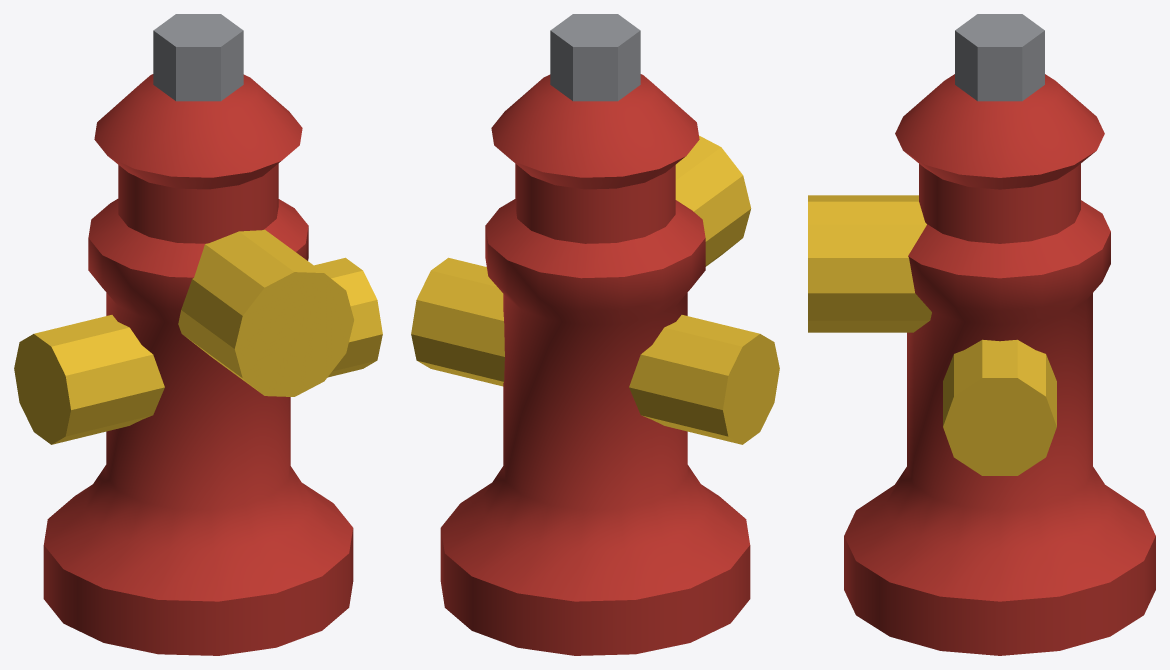
The model's file is city_hydrant.fbx.
The picture shows the model from 3 angles, left to right: view 1: azimuth 30°, elevation 25°; view 2: azimuth 150°, elevation 25°; view 3: azimuth 270°, elevation 25°; orthographic projection.
Parts seen in each view (by area): view 1: red_1, yellow_1, steel_1; view 2: red_1, yellow_1, steel_1; view 3: red_1, yellow_1, steel_1.
Boxes of the visible parts, left/top/right/bottom form: red_1: left=43, top=74, right=353, bottom=655; yellow_1: left=14, top=229, right=382, bottom=444; steel_1: left=153, top=14, right=243, bottom=101; red_1: left=440, top=74, right=750, bottom=655; yellow_1: left=411, top=135, right=779, bottom=444; steel_1: left=550, top=14, right=640, bottom=101; red_1: left=844, top=74, right=1155, bottom=655; yellow_1: left=808, top=195, right=1056, bottom=475; steel_1: left=955, top=14, right=1044, bottom=101.
Size of the model in its own units: 0.06 by 0.103 by 0.058.
